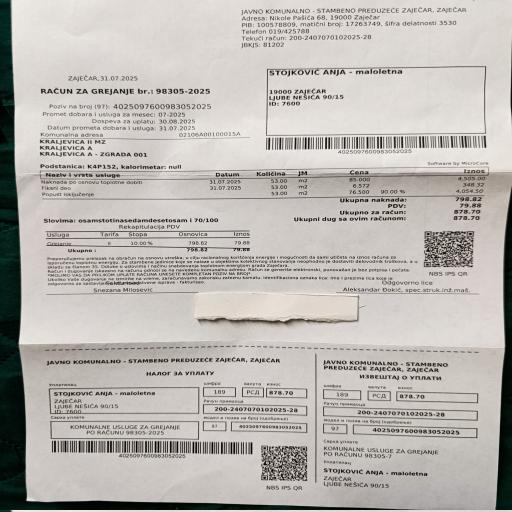racun_za_grejanje: (40, 166, 492, 216)
